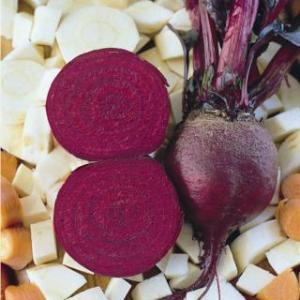beet: (52, 160, 183, 274), (44, 47, 172, 159), (174, 110, 278, 235)
